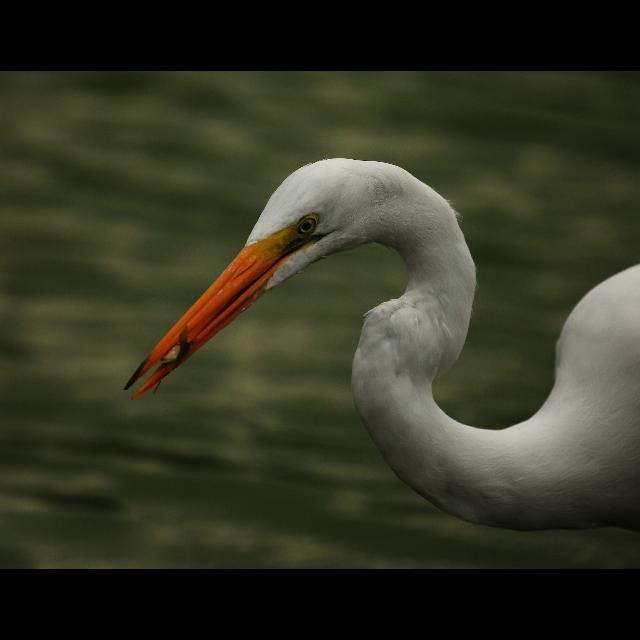egret: (103, 145, 640, 537)
